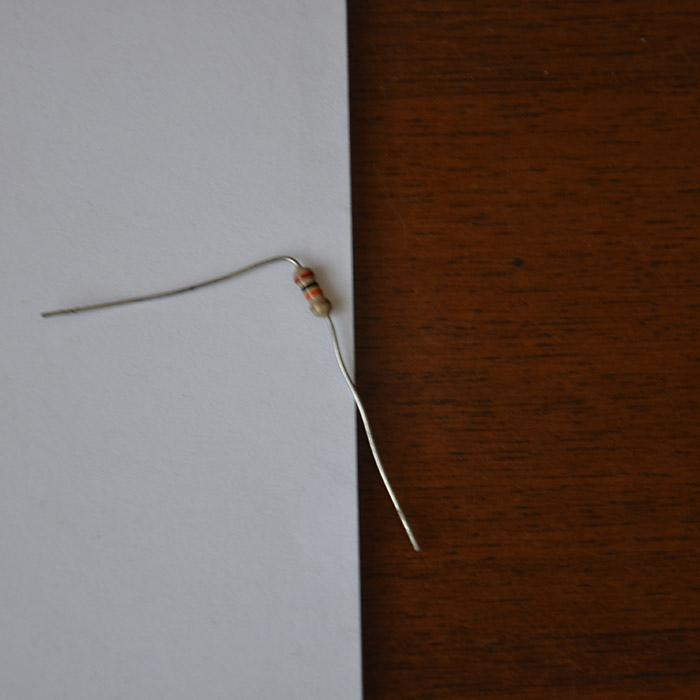resistor: (291, 266, 328, 316)
